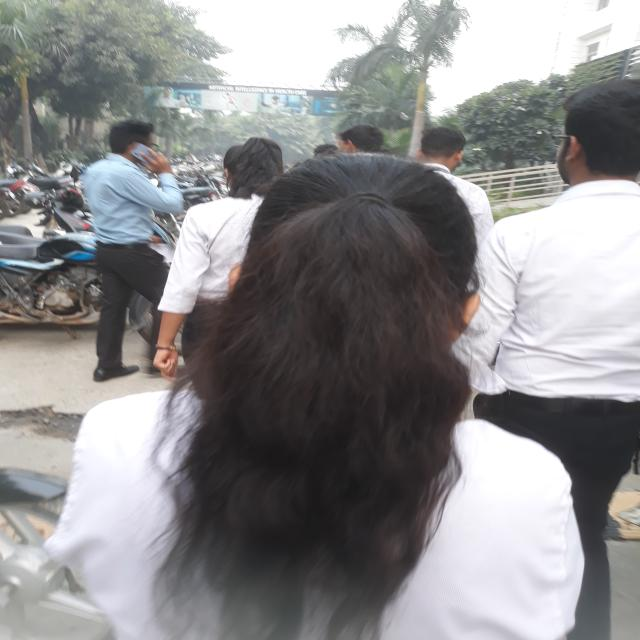unsafe: (77, 123, 176, 387)
